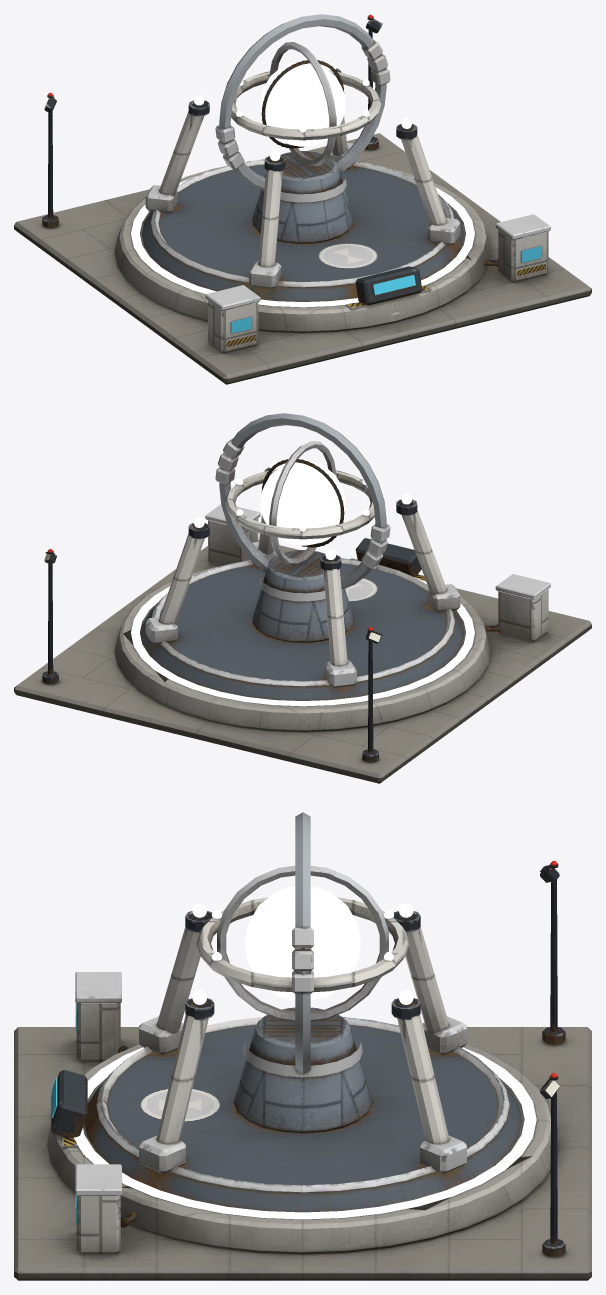
The model's file is pdox.allies.glb.
3 renders of one model, top to bottom at view 1: azimuth 30°, elevation 25°; view 2: azimuth 150°, elevation 25°; view 3: azimuth 270°, elevation 25°, orthographic. The views are drawn at different scales.
Visible parts, largest first — view 1: root_mesh, ringA_mesh, ringB_mesh, ringC_mesh; view 2: root_mesh, ringA_mesh, ringB_mesh, ringC_mesh; view 3: root_mesh, ringB_mesh, ringA_mesh, ringC_mesh.
Boxes of the visible parts, <box> form: root_mesh: <box>14,14,591,384</box>; ringA_mesh: <box>215,14,390,190</box>; ringB_mesh: <box>231,70,381,140</box>; ringC_mesh: <box>269,42,336,166</box>; root_mesh: <box>14,459,591,783</box>; ringA_mesh: <box>215,413,390,589</box>; ringB_mesh: <box>224,469,374,539</box>; ringC_mesh: <box>269,441,336,565</box>; root_mesh: <box>14,860,591,1280</box>; ringB_mesh: <box>196,897,409,992</box>; ringA_mesh: <box>292,812,313,1074</box>; ringC_mesh: <box>217,865,388,1021</box>.
Size of the model in its own units: 1.98 by 1.27 by 1.98.
2 materials, 1 textured.
